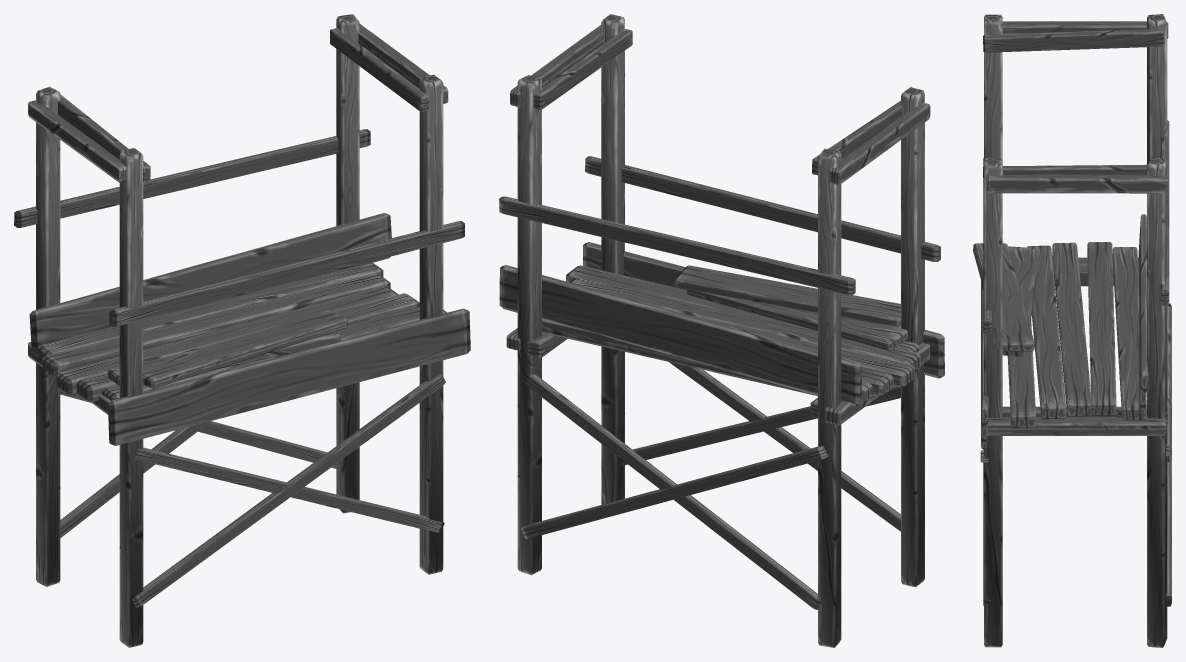
Rendered from SM_Plateforme03.FBX.
3 renders of one model, left to right at view 1: azimuth 30°, elevation 25°; view 2: azimuth 150°, elevation 25°; view 3: azimuth 270°, elevation 25°, orthographic.
Parts seen in each view (by area): view 1: Plateforme03; view 2: Plateforme03; view 3: Plateforme03.
Part boxes in pixels (x1,y1,x2,y2): Plateforme03: (14,14,470,647); Plateforme03: (499,14,944,647); Plateforme03: (973,14,1171,647).
Size of the model in its own units: 399 by 506 by 189.
